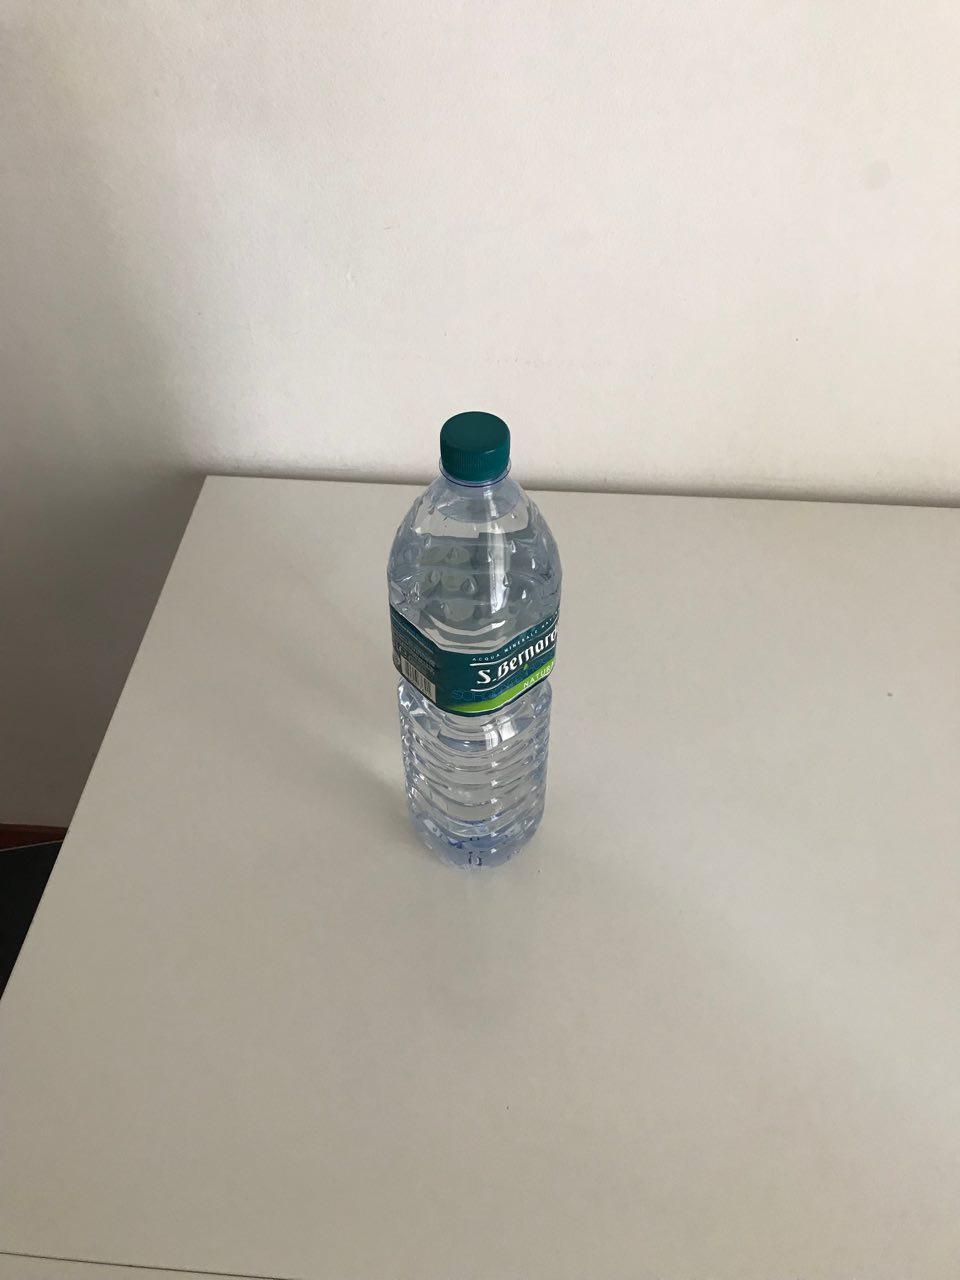san_bernardo: (385, 410, 564, 879)
